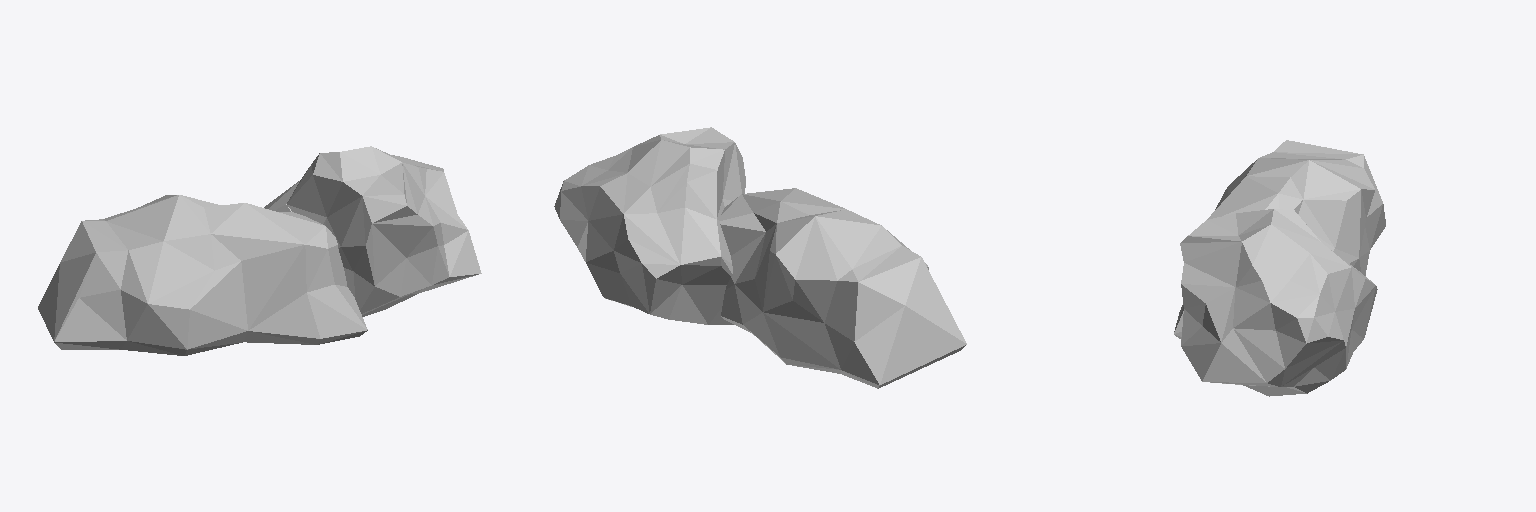
File: hidingWall.obj
3 views of the same model, side by side, from view 1: azimuth 30°, elevation 25°; view 2: azimuth 150°, elevation 25°; view 3: azimuth 270°, elevation 25° (orthographic).
Visible parts, largest first — view 1: Object_6; view 2: Object_6; view 3: Object_6.
Part boxes in pixels (bbox=[...]): Object_6: bbox=[38, 146, 481, 355]; Object_6: bbox=[554, 127, 966, 388]; Object_6: bbox=[1174, 140, 1385, 396].
Size of the model in its own units: 281 by 116 by 129.